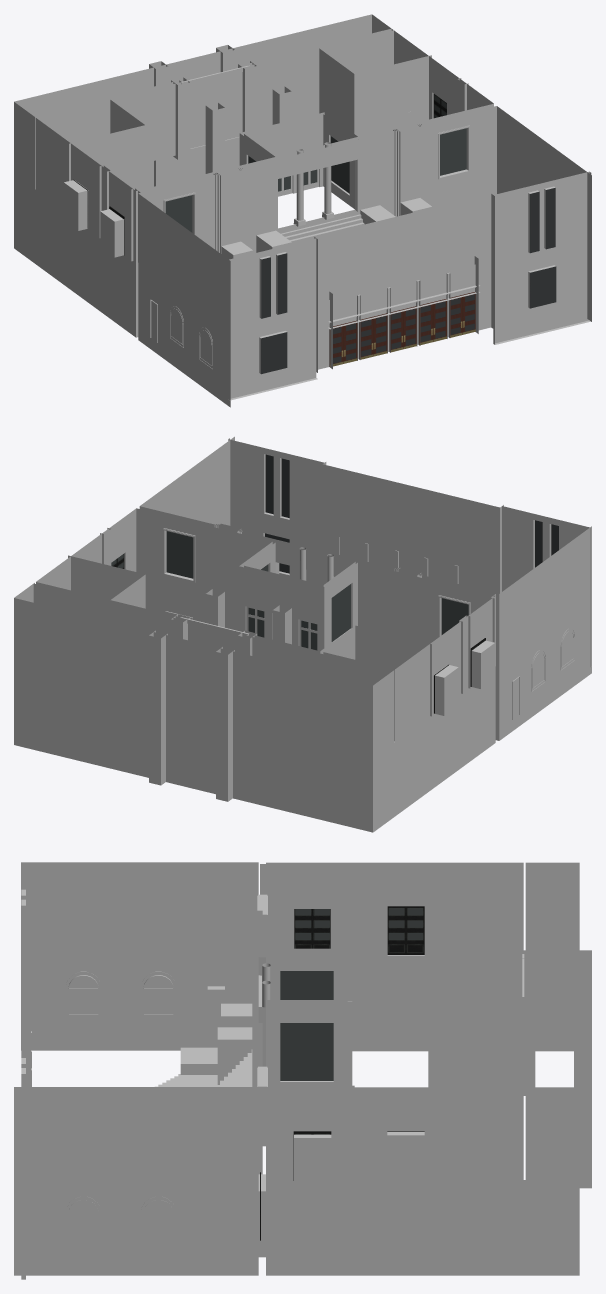
The model's file is Cityhall_inside.FBX.
The picture shows the model from 3 angles, top to bottom: view 1: azimuth 30°, elevation 25°; view 2: azimuth 150°, elevation 25°; view 3: azimuth 270°, elevation 25°; orthographic projection. The views are drawn at different scales.
Visible parts, largest first — view 1: Cityhall_inside; view 2: Cityhall_inside; view 3: Cityhall_inside.
Boxes of the visible parts, x1,y1,x2,y2 form: Cityhall_inside: (14, 14, 591, 407); Cityhall_inside: (14, 436, 591, 832); Cityhall_inside: (14, 862, 591, 1279).
Bounding box in the file's own units: 2560 × 971 × 2655.
